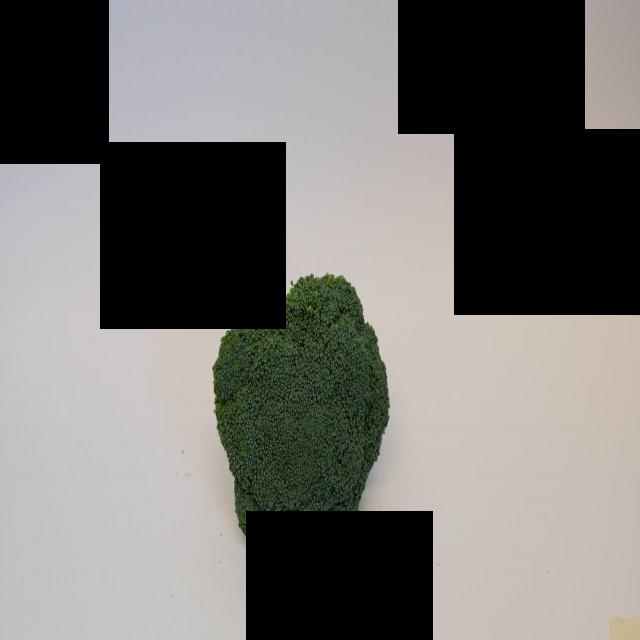broccoli: (212, 271, 390, 556)
